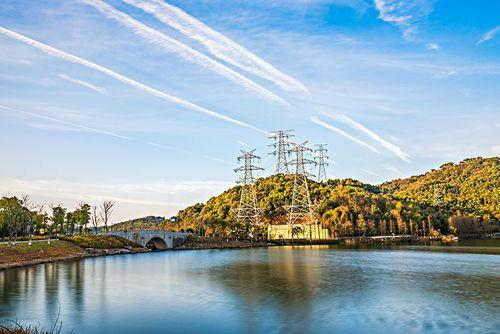power_tower: (226, 144, 264, 222), (287, 137, 315, 213), (310, 137, 337, 186), (267, 126, 293, 176)
